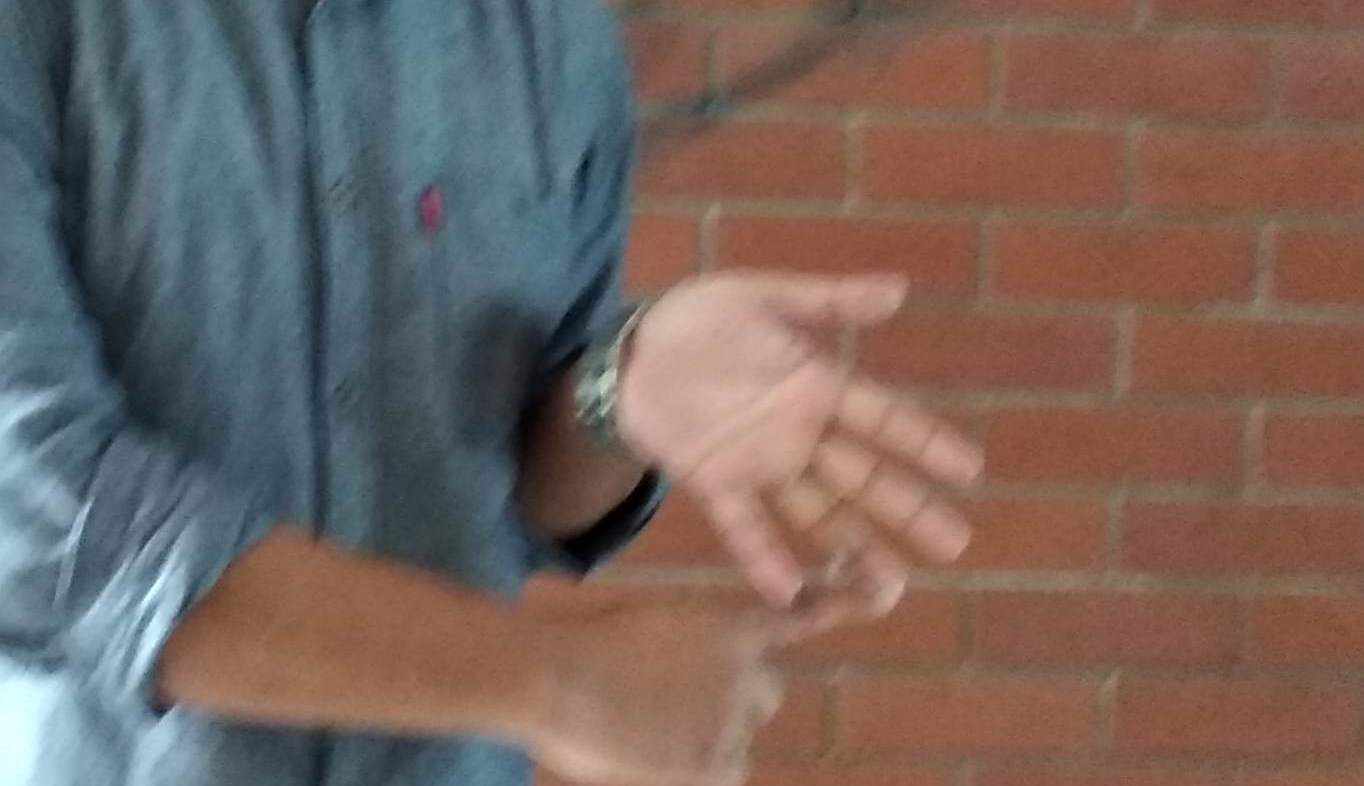e: (591, 302, 1006, 779)
